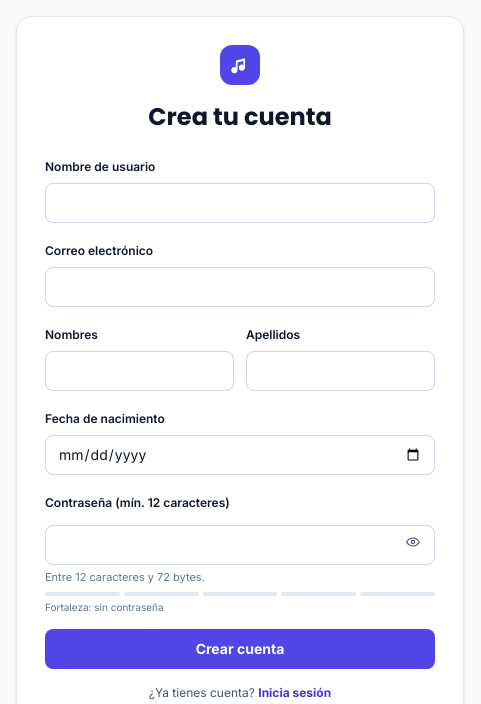
Scenario: TEST-FE-AUTH: login, registro y guardas › TEST-FE-AUTH-004 bloquea registro con contraseña corta sin enviar HTTP
This screenshot has width=481, height=704.
Type "Andrea" into the field labelled "Nombres" at (140, 371), box x1=45 y1=351 x2=234 y2=391
Type "Ruiz" into the field labelled "Apellidos" at (340, 371), box x1=246 y1=351 x2=435 y2=391
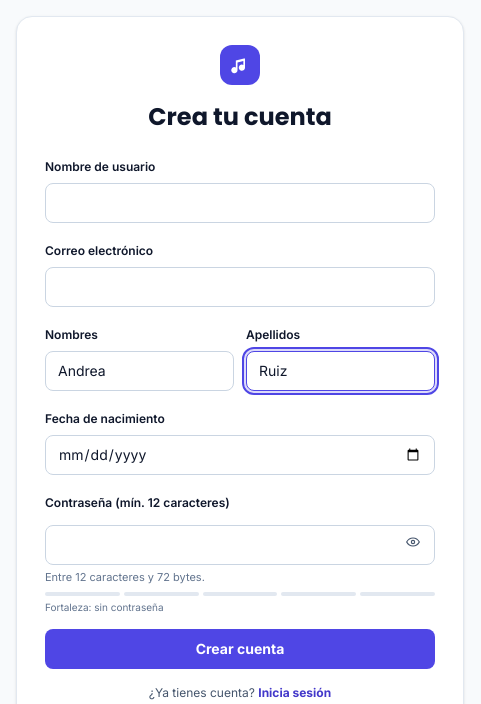
Type "andrea" into the field labelled "Nombre de usuario" at (240, 203), box x1=45 y1=183 x2=435 y2=223
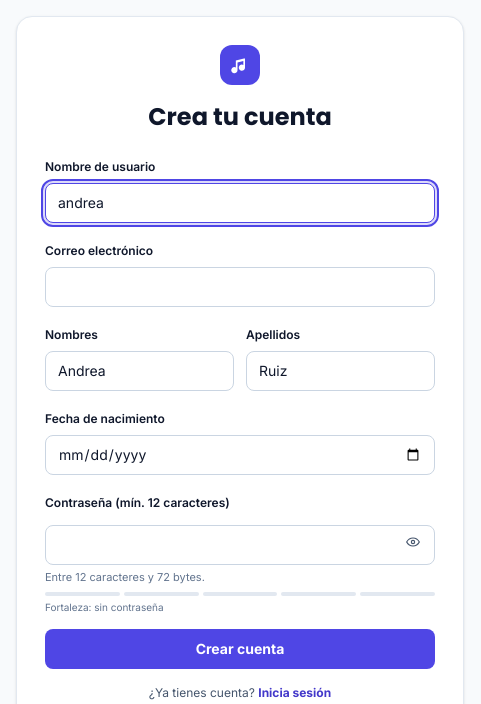
Type "andrea@pulsepass.test" into the field labelled "Correo electrónico" at (240, 287), box x1=45 y1=267 x2=435 y2=307
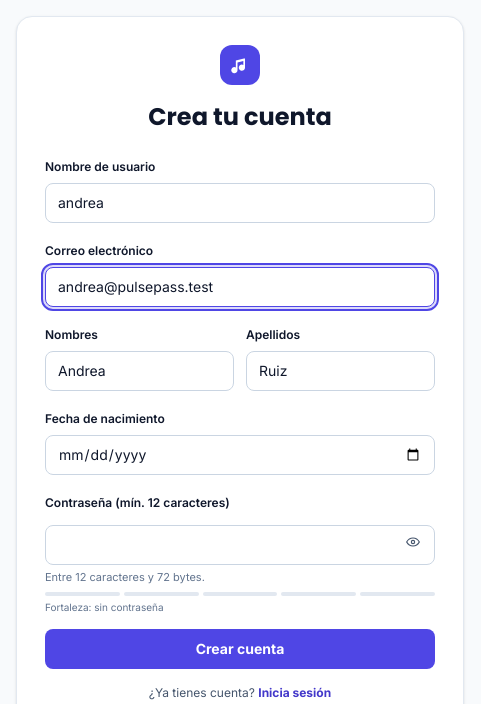
Type "1998-04-12" into the date field labelled "Fecha de nacimiento" at (240, 455), box x1=45 y1=435 x2=435 y2=475
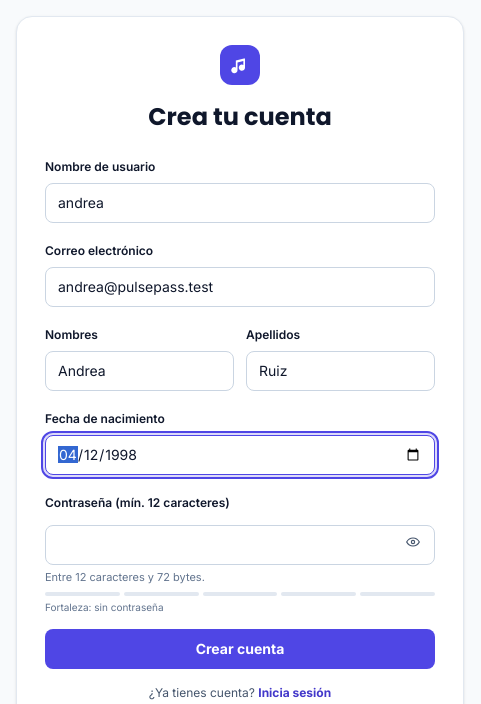
Type "corta" into the password field labelled "Contraseña (mín. 12 caracteres)" at (240, 545), box x1=45 y1=525 x2=435 y2=565
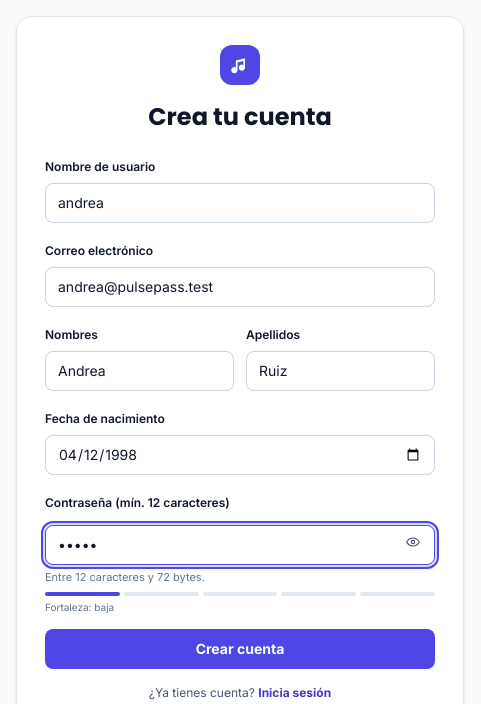
Click the button "Crear cuenta" at (240, 648), box x1=45 y1=628 x2=435 y2=668
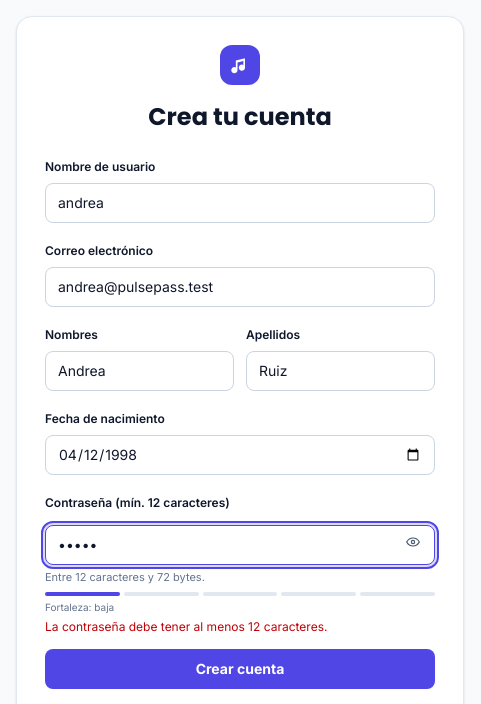
Expected: the text "La contraseña debe tener al menos 12 caracteres." is shown, x1=45 y1=618 x2=327 y2=634
